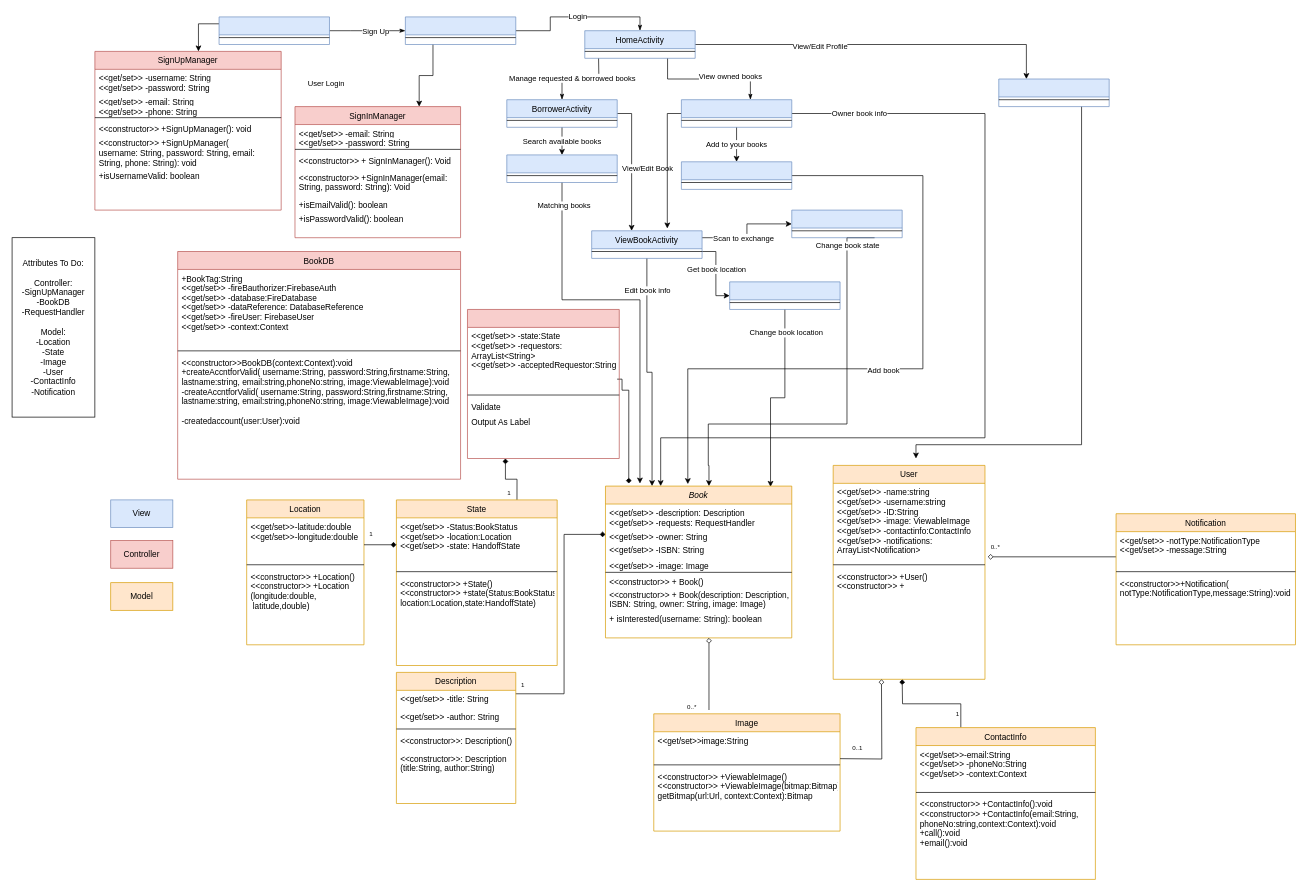
The diagram is 1308 pixels wide and 891 high, and some of its shapes have lost their labels. The box of each missing label's shape, as (x1, y1, x2, y2) in pixels:
AddBookActivity: (681, 161, 792, 189)
LocationActivity: (729, 281, 840, 309)
OwnerActivity: (681, 99, 792, 127)
ProfileActivity: (998, 78, 1109, 107)
RequestHandler: (467, 309, 619, 459)
ScannerActivity: (791, 209, 902, 238)
SearchActivity: (506, 154, 617, 183)
SignInActivity: (405, 16, 516, 45)
SignUpActivity: (218, 16, 329, 45)
